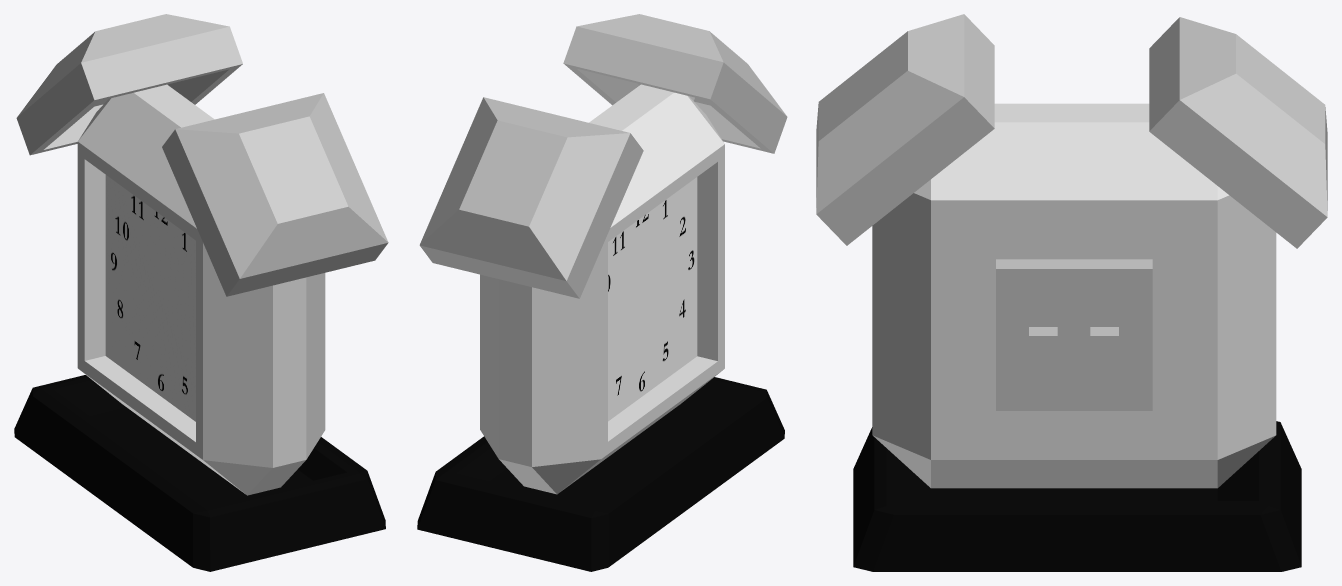
The model's file is clock.fbx.
3 renders of one model, left to right at view 1: azimuth 30°, elevation 25°; view 2: azimuth 150°, elevation 25°; view 3: azimuth 270°, elevation 25°, orthographic. The views are drawn at different scales.
Parts seen in each view (by area): view 1: Cube.015, Cube.008, Cube.012, Cube.014; view 2: Cube.015, Cube.008, Cube.014, Cube.012; view 3: Cube.015, Cube.008, Cube.012, Cube.014, Cube.009, Cube.016.
Part boxes in pixels (x1=…): Cube.015: x1=77, y1=84, x2=325, y2=495; Cube.008: x1=14, y1=375, x2=385, y2=571; Cube.012: x1=162, y1=93, x2=388, y2=296; Cube.014: x1=16, y1=14, x2=242, y2=155; Cube.015: x1=480, y1=84, x2=724, y2=494; Cube.008: x1=417, y1=377, x2=784, y2=571; Cube.014: x1=419, y1=97, x2=643, y2=298; Cube.012: x1=563, y1=14, x2=787, y2=153; Cube.015: x1=872, y1=103, x2=1276, y2=488; Cube.008: x1=853, y1=421, x2=1301, y2=571; Cube.012: x1=816, y1=14, x2=994, y2=245; Cube.014: x1=1149, y1=17, x2=1327, y2=248; Cube.009: x1=1029, y1=327, x2=1057, y2=361; Cube.016: x1=1090, y1=327, x2=1118, y2=361.
Size of the model in its own units: 126 by 257 by 253.
